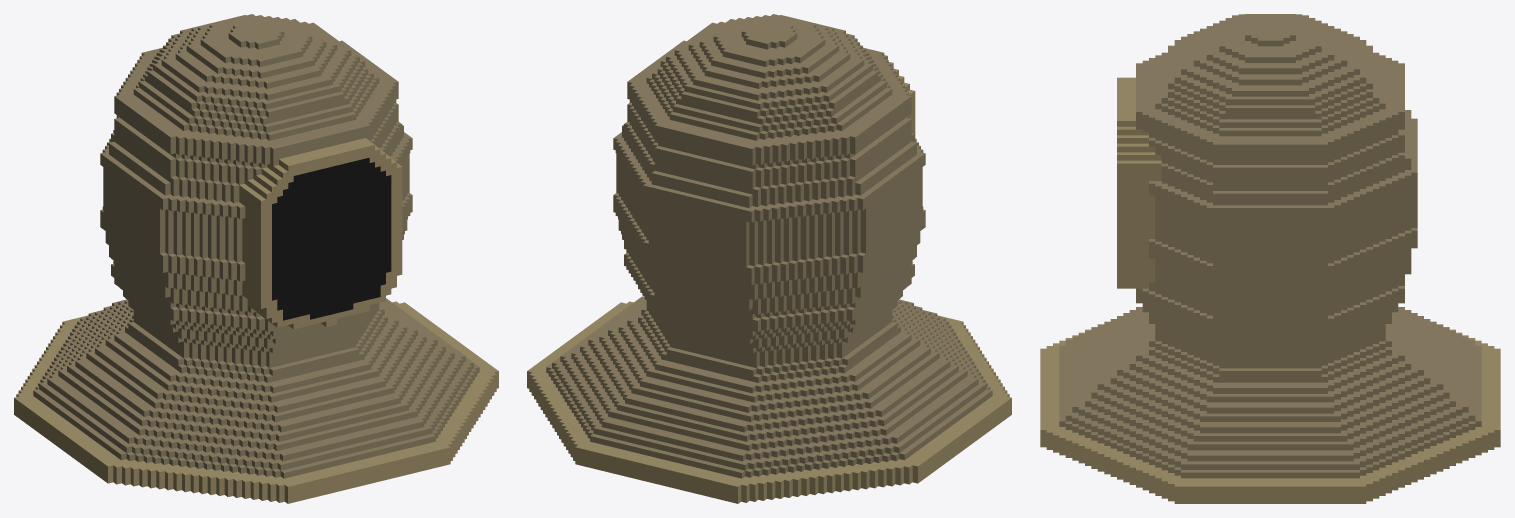
File: aketon_hood_canvas.glb
The picture shows the model from 3 angles, left to right: view 1: azimuth 30°, elevation 25°; view 2: azimuth 150°, elevation 25°; view 3: azimuth 270°, elevation 25°; orthographic projection. The views are drawn at different scales.
Visible parts, largest first — view 1: aketon_hood_canvas:compound; view 2: aketon_hood_canvas:compound; view 3: aketon_hood_canvas:compound.
Boxes of the visible parts, x1,y1,x2,y2 form: aketon_hood_canvas:compound: (14,14,498,503); aketon_hood_canvas:compound: (527,14,1011,503); aketon_hood_canvas:compound: (1040,14,1500,503).
Bounding box in the file's own units: 0.288 × 0.26 × 0.288.
